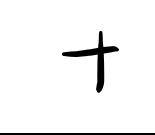plus: (62, 31, 119, 93)
